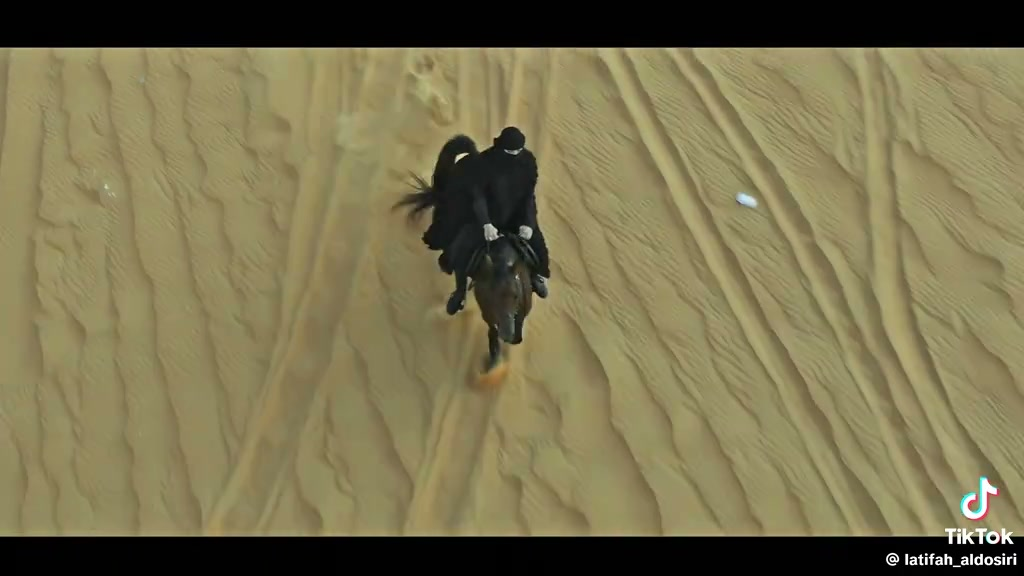animal: (393, 136, 478, 249), (469, 233, 535, 371)
vehicle_track: (600, 37, 909, 551), (671, 47, 960, 541), (208, 39, 401, 529), (861, 49, 1012, 539)
